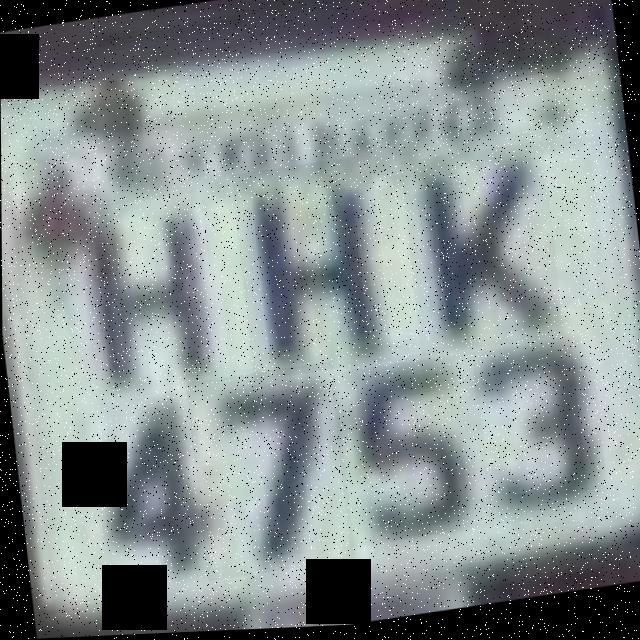3: (435, 319, 631, 536)
4: (82, 381, 225, 605)
5: (330, 355, 493, 551)
7: (185, 363, 354, 583)
H: (230, 157, 393, 383), (85, 192, 222, 404)
K: (398, 144, 564, 360)
